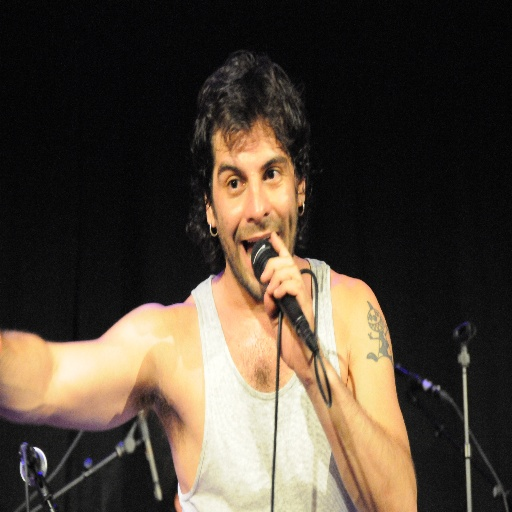hand: (263, 228, 316, 375)
